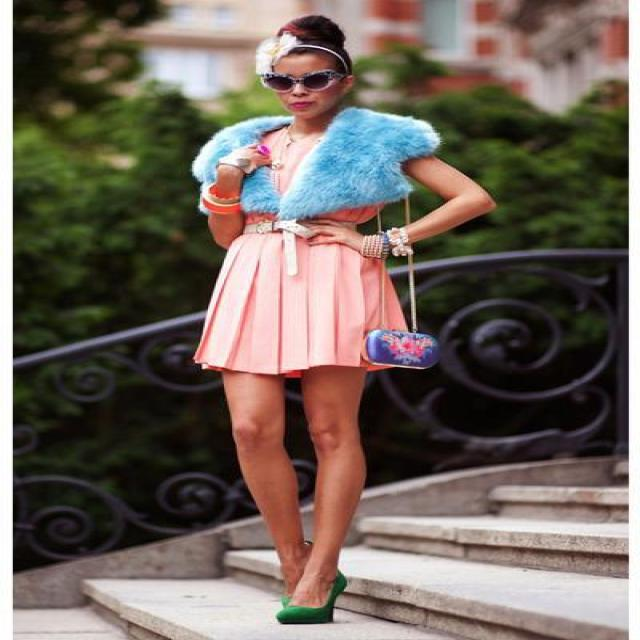bag: (364, 325, 450, 368)
dress: (196, 126, 414, 376)
shoe: (318, 554, 364, 600)
